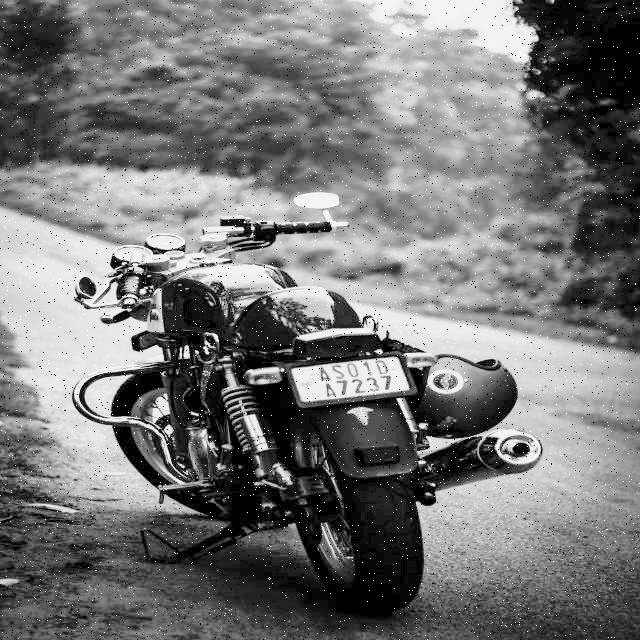Bike: (60, 200, 564, 640)
